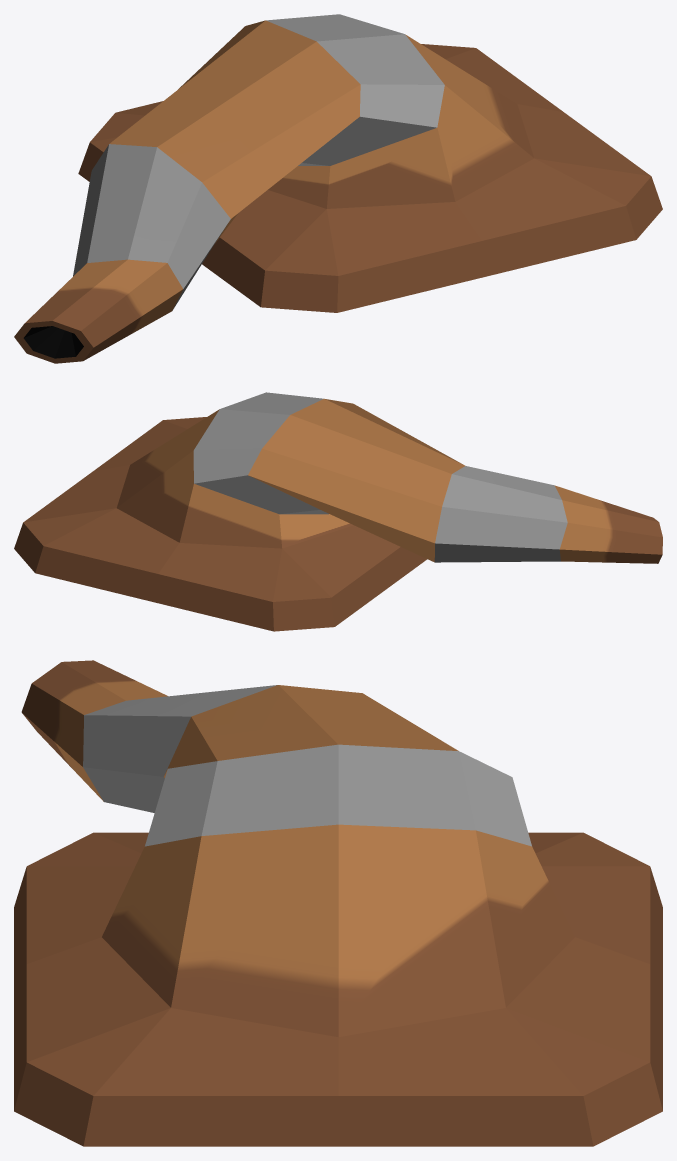
The model's file is SM_Prop_Cone_03.obj.
3 views of the same model, one above another, from view 1: azimuth 30°, elevation 25°; view 2: azimuth 150°, elevation 25°; view 3: azimuth 270°, elevation 25° (orthographic). The views are drawn at different scales.
Parts seen in each view (by area): view 1: SM_Prop_Cone_03_0; view 2: SM_Prop_Cone_03_0; view 3: SM_Prop_Cone_03_0.
Part boxes in pixels (bbox=[...]): SM_Prop_Cone_03_0: bbox=[14, 14, 662, 363]; SM_Prop_Cone_03_0: bbox=[14, 392, 662, 631]; SM_Prop_Cone_03_0: bbox=[14, 660, 662, 1146].
Bounding box in the file's own units: 0.8353 × 0.2067 × 0.5251.
1 material, 1 textured.
